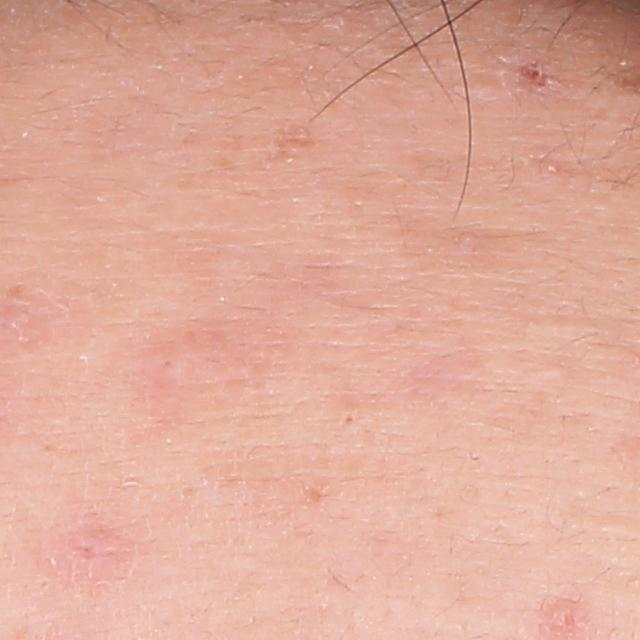comedo: (338, 411, 360, 428)
papule: (138, 341, 193, 389), (543, 594, 589, 639)
